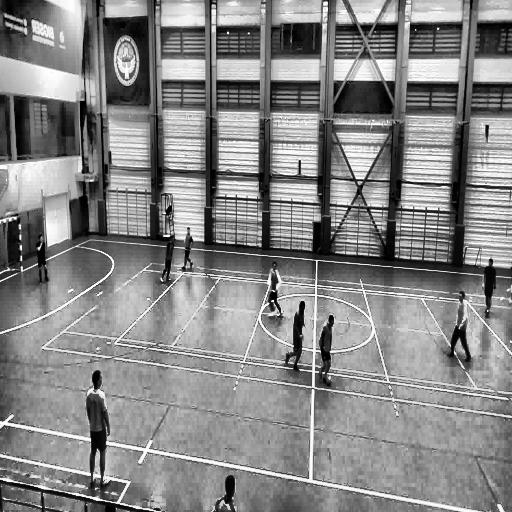ball: (326, 374, 331, 385)
player: (89, 371, 114, 489), (448, 290, 471, 362), (284, 300, 304, 371), (318, 315, 334, 385), (266, 261, 282, 316), (482, 260, 497, 317), (37, 232, 50, 283), (162, 236, 176, 282), (183, 226, 195, 270)
